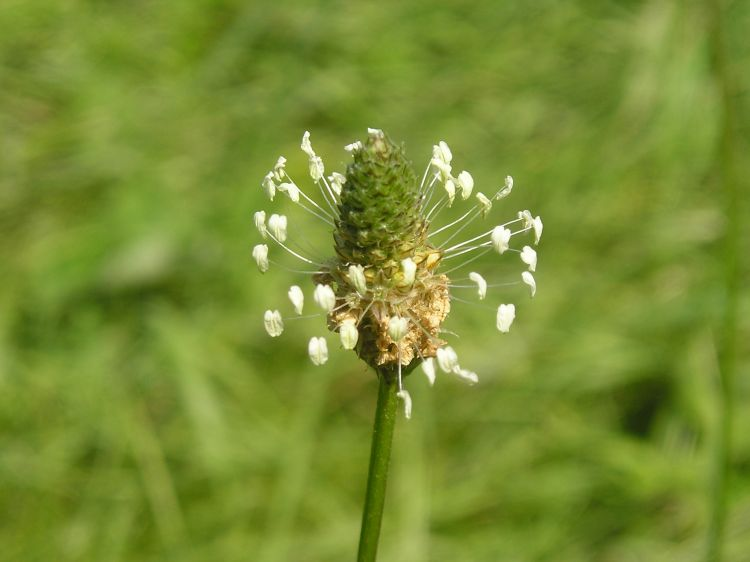buckhorn plantain: (261, 132, 549, 519)
